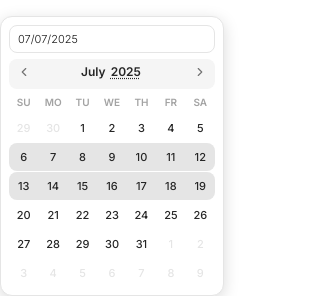
CalendarDatePicker › navigates to the previous month
The image size is (320, 296).
(page scrolled)
Expected: the text "July" is shown, [81,64,106,79]
Click the button named "Previous month": (24, 72) [13,61,35,83]
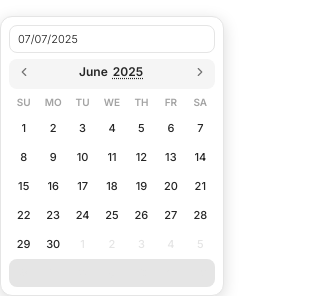
Expected: the text "June" is shown, [79,64,108,79]
